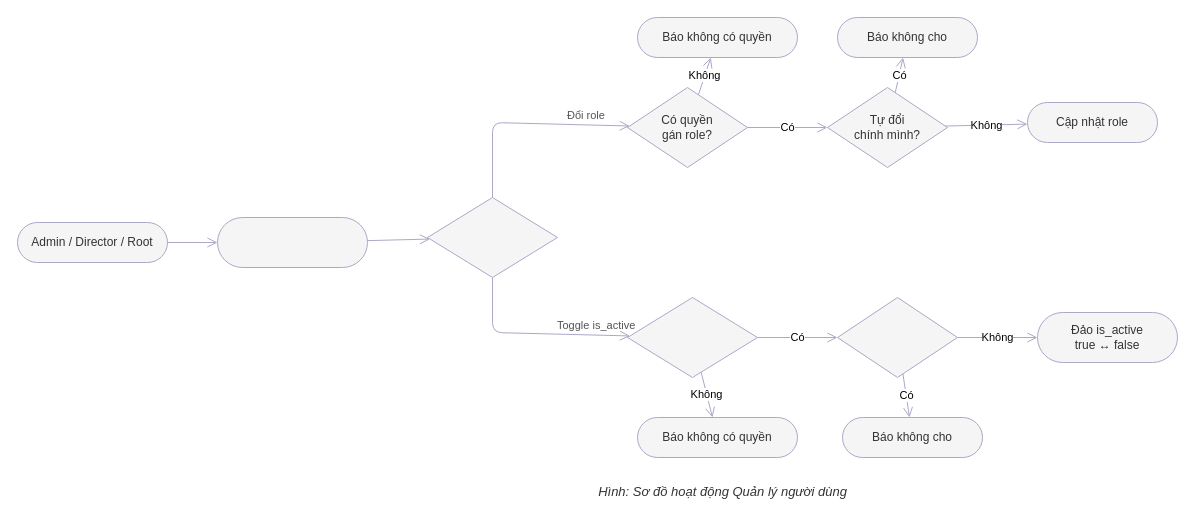
Image size: 1195x525. Some labels were removed from this diagram. Each missing label, with the box of its shape:
Có quyền toggle target?: (626, 296, 758, 378)
Danh sách users tìm kiếm email: (216, 216, 368, 268)
Hành động?: (426, 196, 558, 278)
Tự tắt chính mình?: (836, 296, 958, 378)
